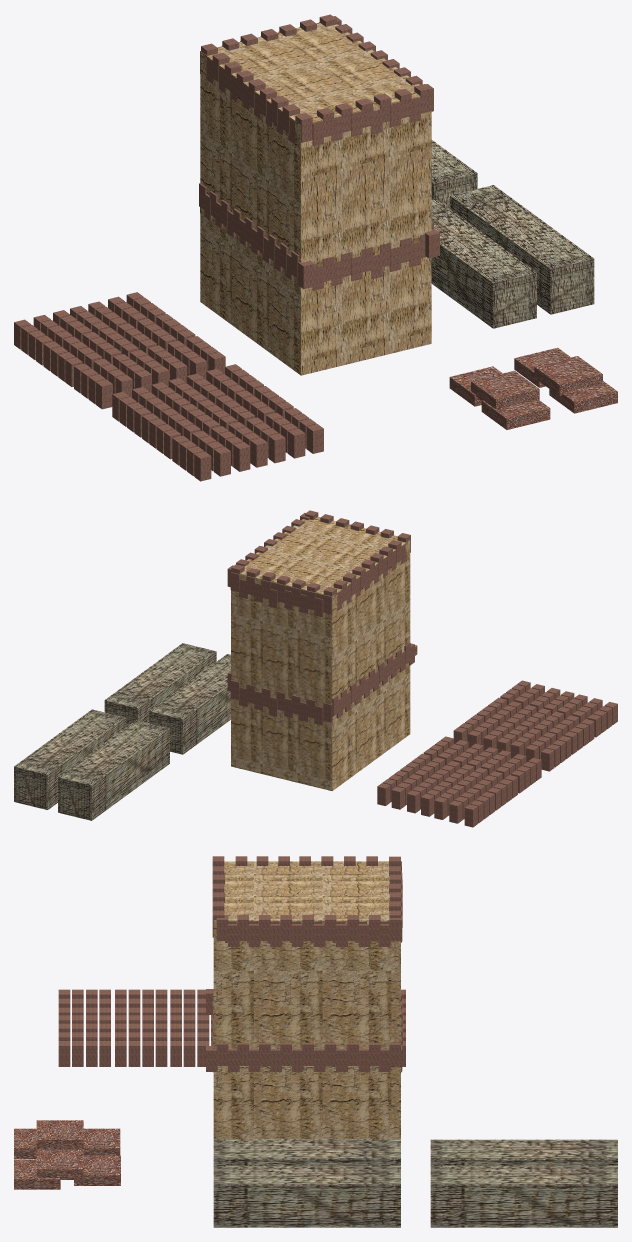
Rendered from Sumerian_Tower_onConstruction.fbx.
3 renders of one model, top to bottom at view 1: azimuth 30°, elevation 25°; view 2: azimuth 150°, elevation 25°; view 3: azimuth 270°, elevation 25°, orthographic. The views are drawn at different scales.
Visible parts, largest first — view 1: Cube, Cube.057, Cube.756, Cube.757, Cube.762, Cube.763, Cube.759, Cube.760, Cube.761, Cube.058; view 2: Cube, Cube.758, Cube.757, Cube.057, Cube.756; view 3: Cube, Cube.756, Cube.757, Cube.057, Cube.758, Cube.763, Cube.762, Cube.761, Cube.058, Cube.760, Cube.759.
Boxes of the visible parts, x1,y1,x2,y2 form: Cube: (200, 22, 431, 375); Cube.057: (431, 199, 536, 328); Cube.756: (450, 185, 594, 314); Cube.757: (431, 140, 477, 208); Cube.762: (534, 356, 602, 396); Cube.763: (471, 370, 539, 409); Cube.759: (481, 399, 550, 429); Cube.760: (549, 381, 617, 413); Cube.761: (514, 347, 570, 387); Cube.058: (449, 366, 502, 406); Cube: (231, 517, 410, 790); Cube.758: (58, 720, 169, 820); Cube.757: (14, 709, 125, 809); Cube.057: (149, 654, 230, 754); Cube.756: (104, 643, 216, 726); Cube: (213, 861, 400, 1139); Cube.756: (213, 1165, 400, 1227); Cube.757: (430, 1165, 617, 1227); Cube.057: (213, 1139, 400, 1165); Cube.758: (430, 1139, 617, 1165); Cube.763: (36, 1120, 83, 1149); Cube.762: (36, 1149, 83, 1179); Cube.761: (74, 1155, 120, 1185); Cube.058: (83, 1128, 120, 1155); Cube.760: (14, 1159, 60, 1189); Cube.759: (14, 1128, 36, 1158).
Bounding box in the file's own units: 1096 × 561 × 1290.
